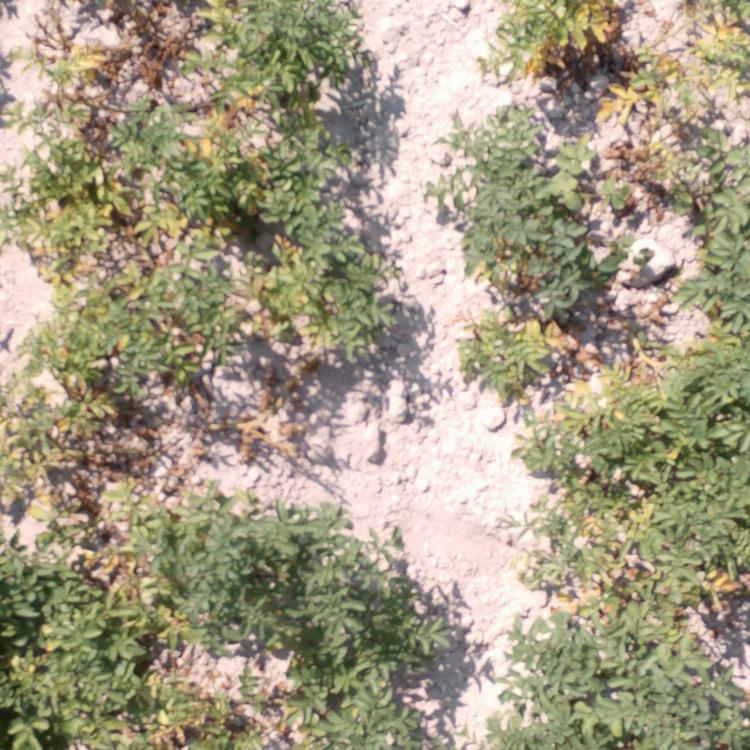healthy: (1, 640, 297, 747), (304, 533, 448, 750), (134, 490, 300, 638), (1, 316, 133, 489), (603, 217, 741, 375), (1, 491, 131, 645), (442, 207, 598, 322)
stressed: (165, 1, 425, 144), (26, 141, 302, 268), (353, 388, 528, 528), (456, 536, 570, 750), (1, 1, 167, 140), (178, 273, 348, 396), (564, 580, 745, 667), (536, 385, 640, 535), (356, 325, 599, 387), (216, 395, 354, 485), (679, 3, 749, 178), (306, 142, 398, 268), (476, 1, 587, 66), (565, 528, 666, 585), (655, 692, 750, 748), (647, 379, 717, 454), (593, 1, 671, 64)
